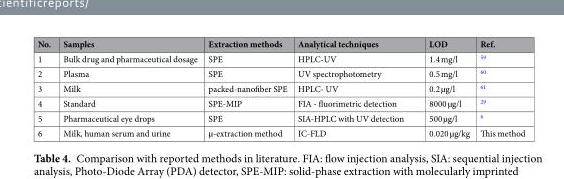table: (36, 37, 524, 139)
table column: (56, 37, 202, 139), (291, 37, 415, 139), (202, 37, 291, 139), (415, 37, 474, 139), (474, 37, 524, 139), (36, 37, 56, 139)
table column header: (36, 37, 524, 50)
table row: (36, 50, 524, 65), (36, 65, 524, 80), (36, 80, 524, 95), (36, 95, 524, 110), (36, 110, 524, 125), (36, 125, 524, 139), (36, 37, 524, 50)
